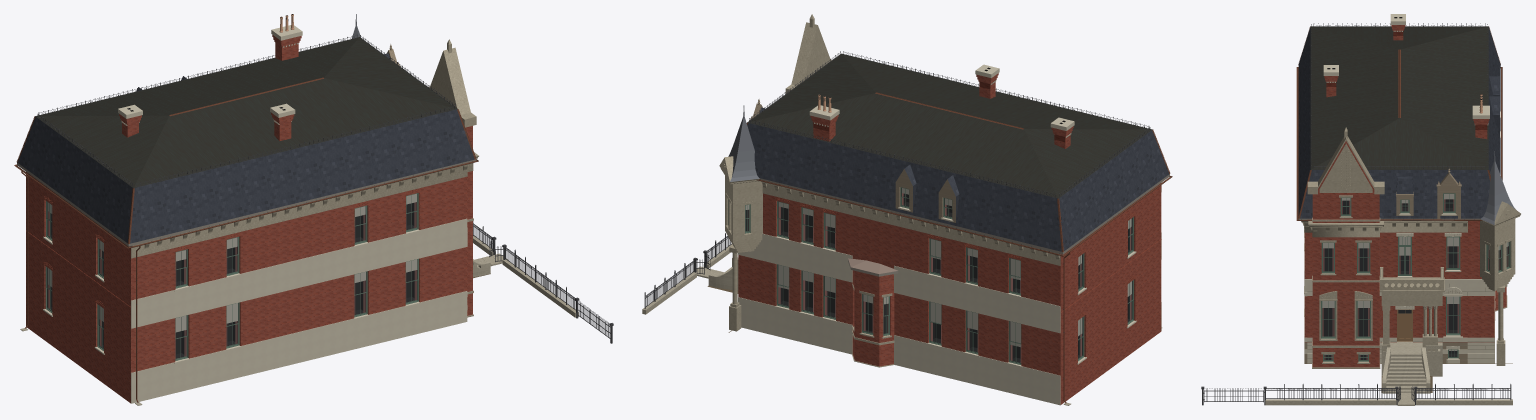
Rendered from sherman_house_2100_prairie__as_mapped_1904.glb.
3 views of the same model, side by side, from view 1: azimuth 30°, elevation 25°; view 2: azimuth 150°, elevation 25°; view 3: azimuth 270°, elevation 25° (orthographic). The views are drawn at different scales.
Visible parts, largest first — view 1: sherman_house_2100_prairie__as_mapped_1904; view 2: sherman_house_2100_prairie__as_mapped_1904; view 3: sherman_house_2100_prairie__as_mapped_1904.
Boxes of the visible parts, <box> form: sherman_house_2100_prairie__as_mapped_1904: <box>14,14,613,405</box>; sherman_house_2100_prairie__as_mapped_1904: <box>642,14,1172,405</box>; sherman_house_2100_prairie__as_mapped_1904: <box>1201,14,1520,405</box>.
Size of the model in its own units: 34.14 by 19.9 by 23.91.
30 materials, 17 textured.
